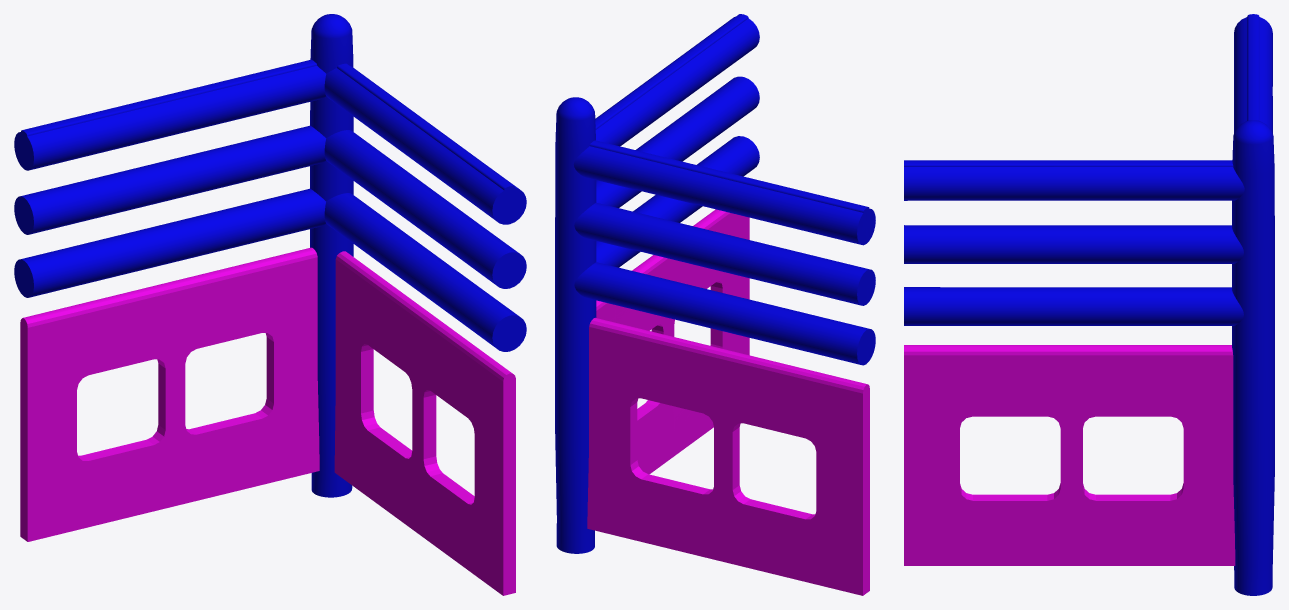
Rendered from RailingCorner.fbx.
3 views of the same model, side by side, from view 1: azimuth 30°, elevation 25°; view 2: azimuth 150°, elevation 25°; view 3: azimuth 270°, elevation 25° (orthographic). The views are drawn at different scales.
Parts seen in each view (by area): view 1: RailingCorner; view 2: RailingCorner; view 3: RailingCorner.
Boxes of the visible parts, bbox=[...] form: RailingCorner: bbox=[14, 14, 526, 595]; RailingCorner: bbox=[555, 14, 875, 595]; RailingCorner: bbox=[904, 14, 1274, 595].
Size of the model in its own units: 595 by 824 by 595.
